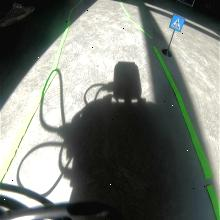crosswalk: (168, 14, 186, 34)
